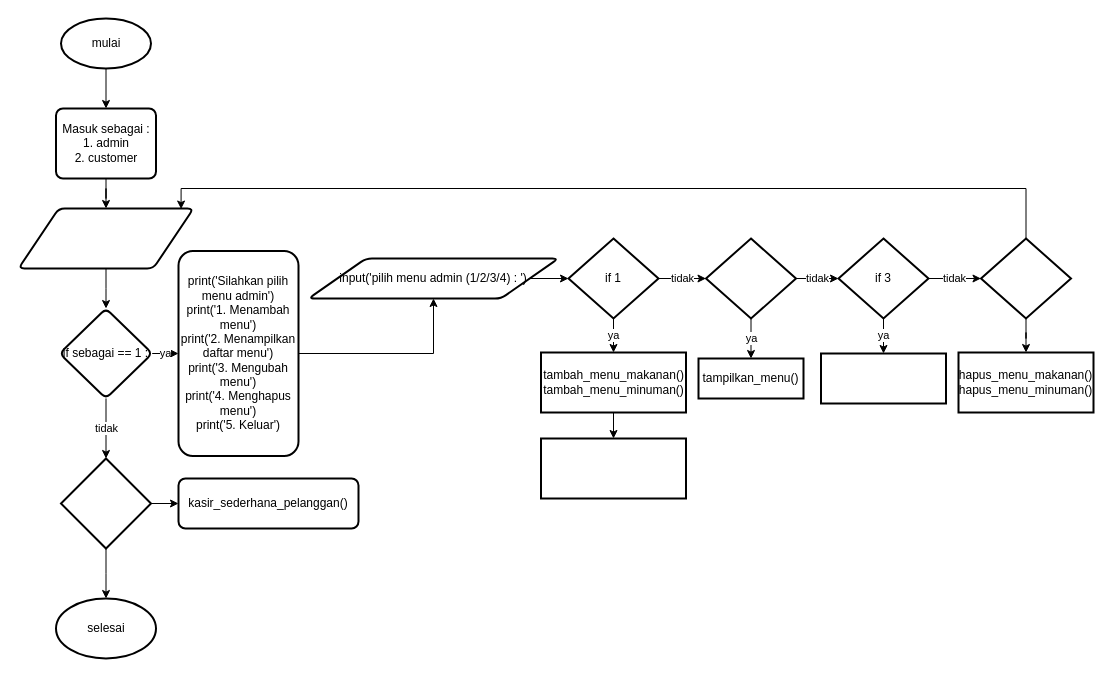
Some shapes in this 1111 by 676 pixel diagram are drawn without their labels. Each missing label, with the box of its shape:
edit_menu_makanan() edit_menu_minuman(): (820, 352, 946, 404)
if 2: (704, 237, 796, 319)
if 4: (980, 237, 1072, 319)
if sebagai == 2: (60, 457, 152, 549)
input('masuk sebagai :'): (17, 207, 194, 269)
print(menuMakanan) print(menuMinuman): (540, 437, 686, 499)
